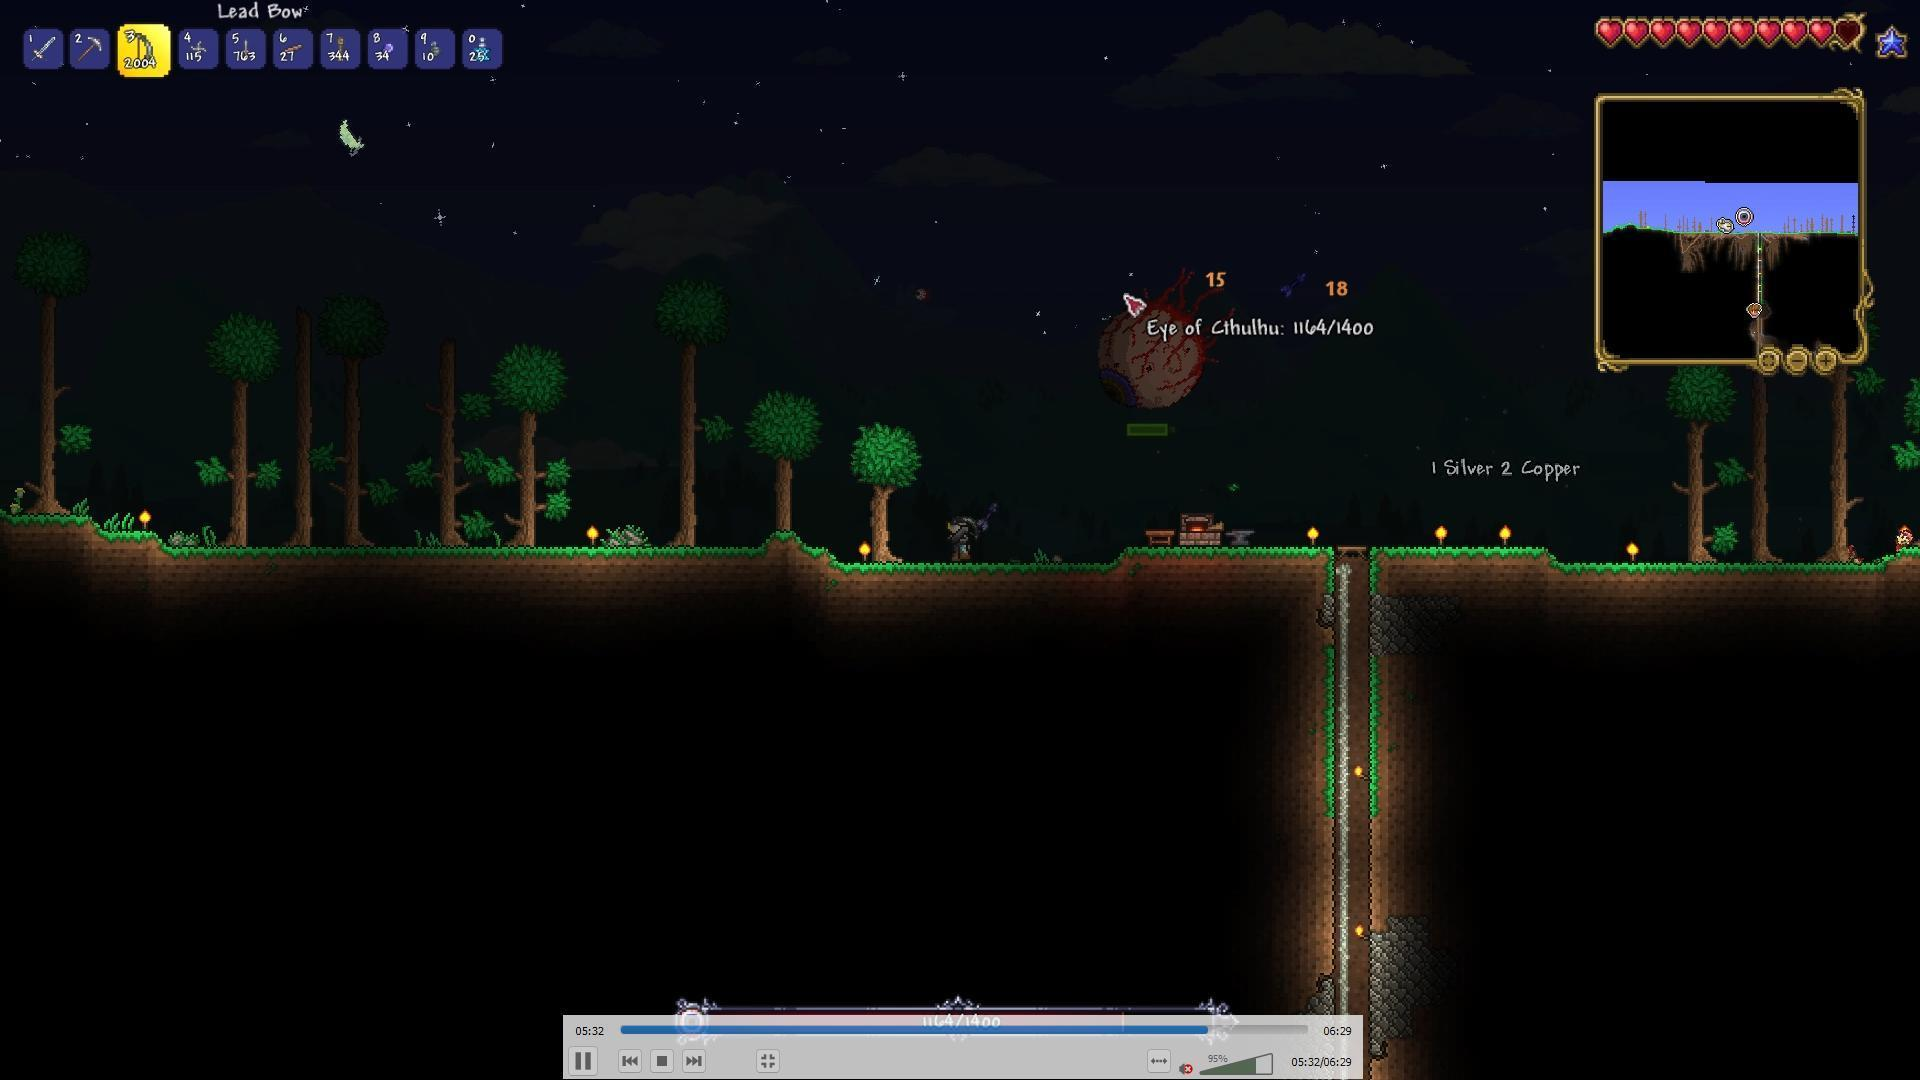eyeC: (1100, 268, 1240, 414)
